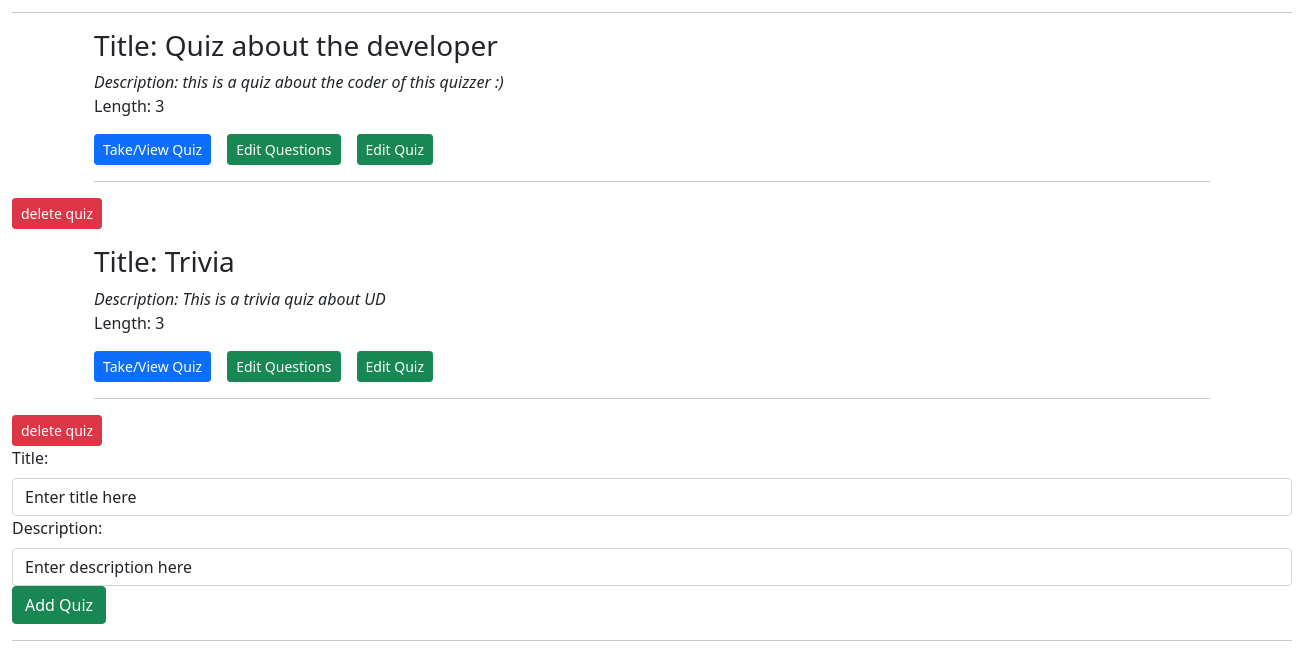
Test: Quizzer Tests › Publish/Unpublish Questions
The width and height of the screenshot is (1304, 652).
(page scrolled)
Click the button "Edit Questions" below "Quiz about the developer". click: (284, 150)
box: [227,134,341,165]
(page scrolled)
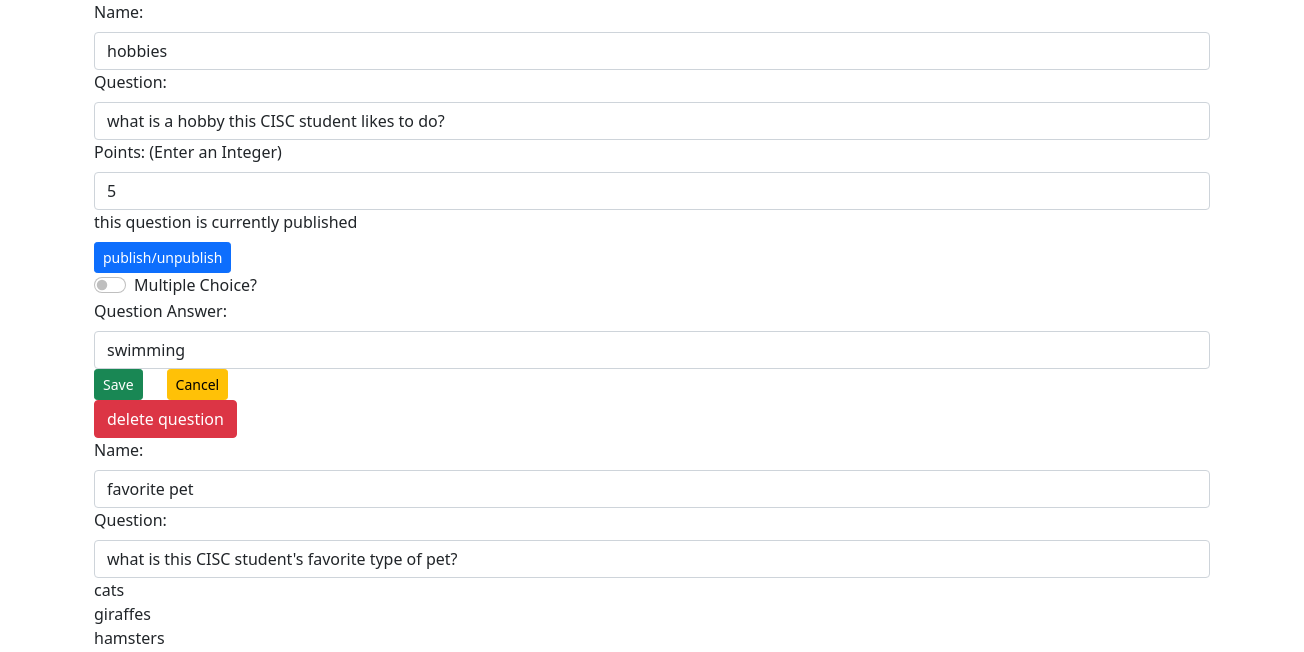
Click the button with test id "publish/unpublish". click: (163, 258)
box: [94,242,231,273]
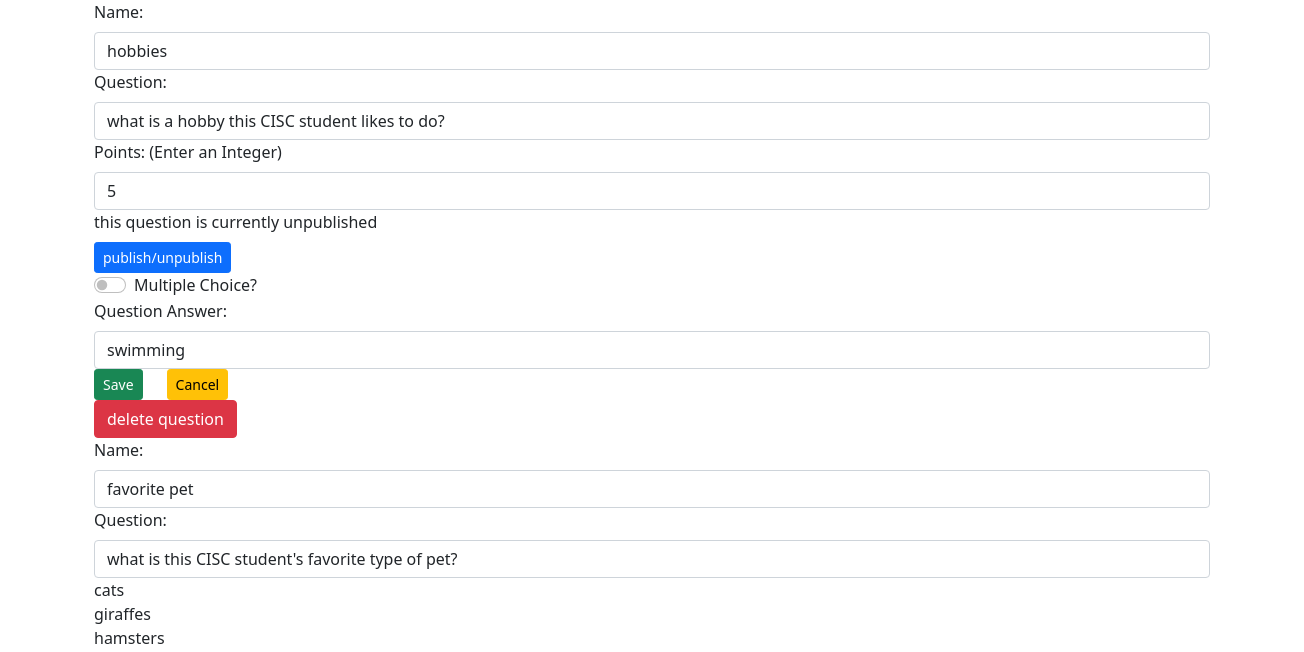
Now the text "this question is currently unpublished" is shown, box [94,210,377,234]
